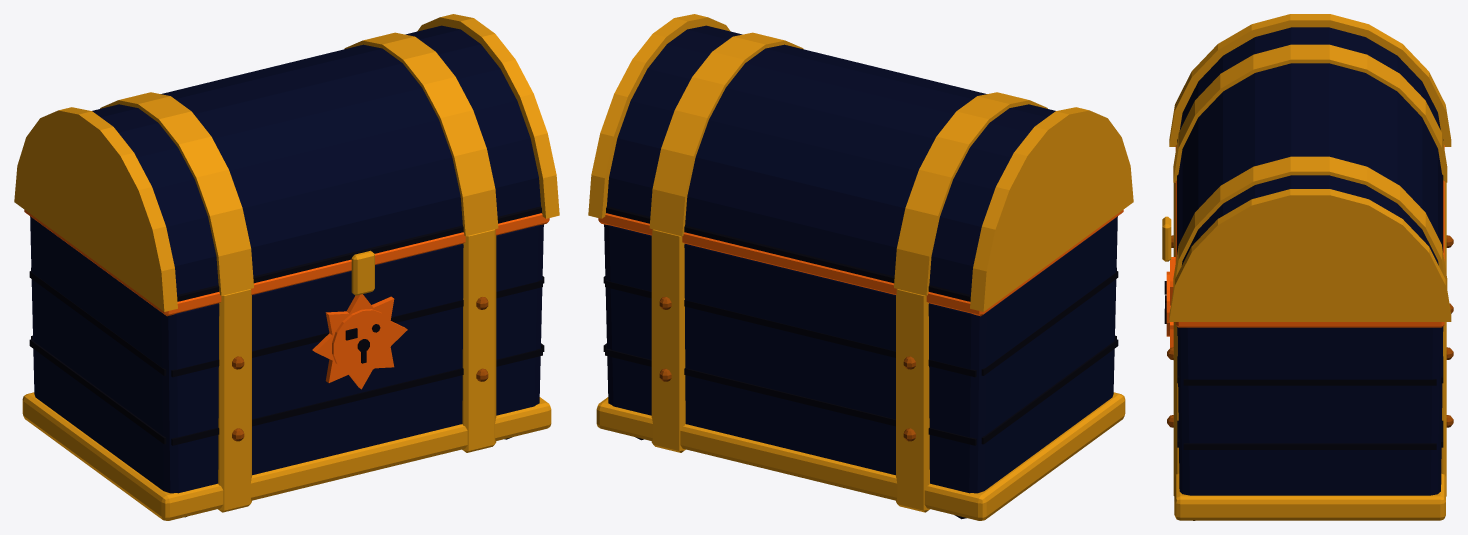
The model's file is tb_chest_grand.three-web-toon.glb.
The picture shows the model from 3 angles, left to right: view 1: azimuth 30°, elevation 25°; view 2: azimuth 150°, elevation 25°; view 3: azimuth 270°, elevation 25°; orthographic projection. The views are drawn at different scales.
Visible parts, largest first — view 1: chest_body, chest_lid; view 2: chest_body, chest_lid; view 3: chest_lid, chest_body.
Boxes of the visible parts, <box> form: chest_body: <box>22,210,551,520</box>; chest_lid: <box>14,14,559,311</box>; chest_body: <box>596,210,1125,520</box>; chest_lid: <box>588,14,1133,311</box>; chest_lid: <box>1162,14,1451,321</box>; chest_body: <box>1164,145,1453,520</box>.
Size of the model in its own units: 2.17 by 1.91 by 1.48.
